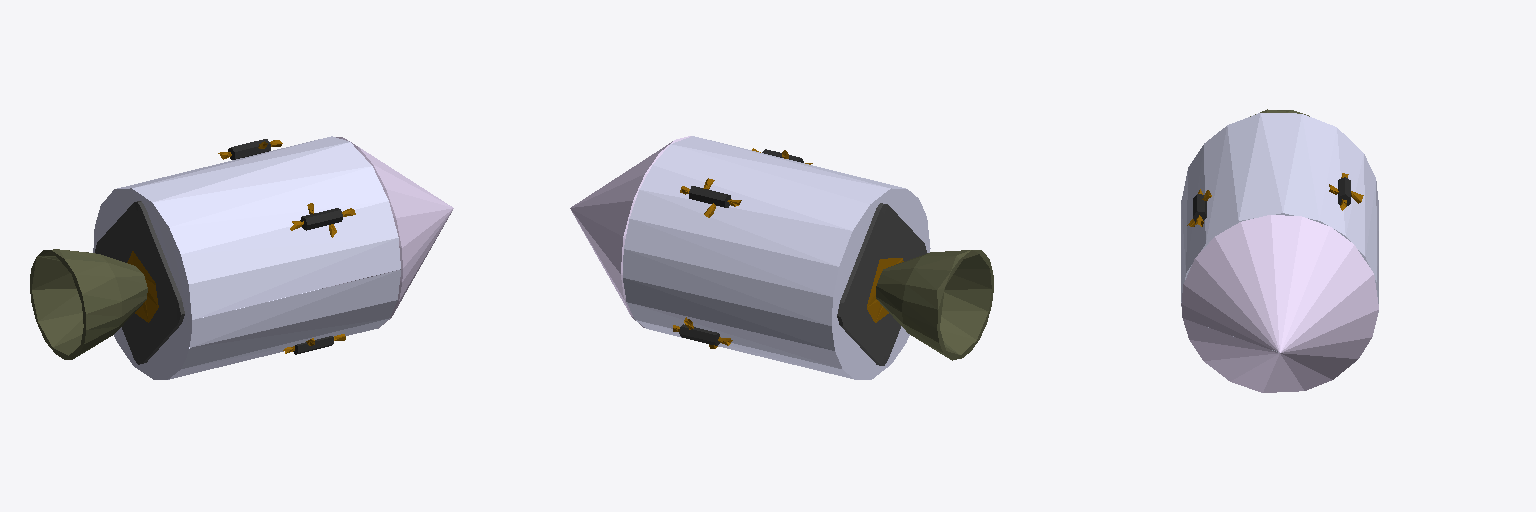
Rendered from soyuz2.obj.
3 renders of one model, left to right at view 1: azimuth 30°, elevation 25°; view 2: azimuth 150°, elevation 25°; view 3: azimuth 270°, elevation 25°, orthographic.
Visible parts, largest first — view 1: polySurfac.001_polySurfac.002; view 2: polySurfac.001_polySurfac.002; view 3: polySurfac.001_polySurfac.002.
Boxes of the visible parts, x1,y1,x2,y2 form: polySurfac.001_polySurfac.002: [30, 136, 453, 379]; polySurfac.001_polySurfac.002: [570, 136, 993, 379]; polySurfac.001_polySurfac.002: [1181, 109, 1378, 392].
Bounding box in the file's own units: 1.19 × 0.512 × 0.5144.